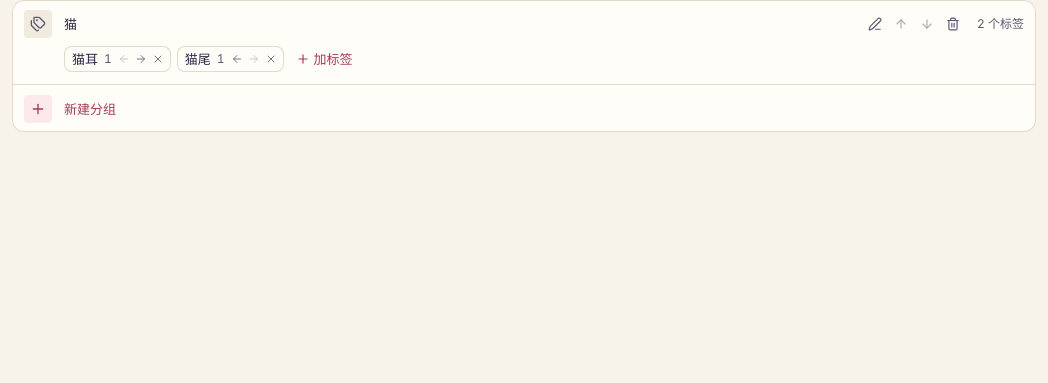
Test: 加标签时不列已有成员，仍列满其余匹配的标签；Esc 收起后焦点回到“加标签”
Step 1. Click the button with aria-label "给“猫”加标签" → [325, 59], box [290,46,361,72]
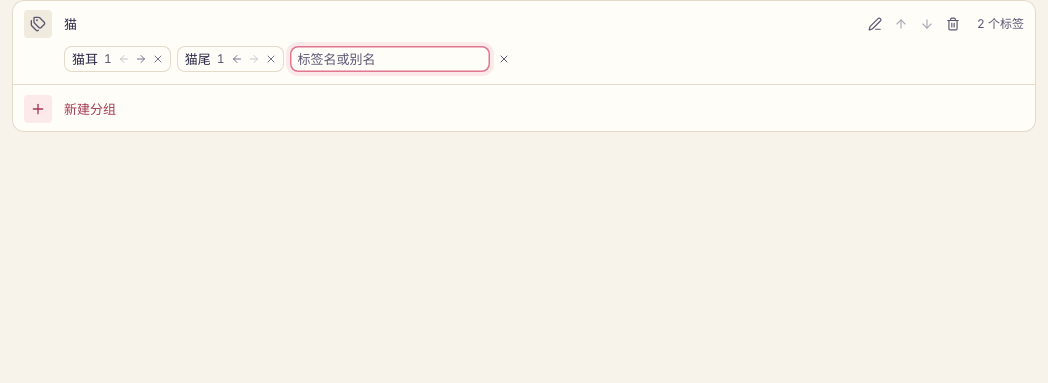
Step 2. Type "猫" into the dropdown named "挑一个统一标签" → [390, 59], box [298,46,482,72]
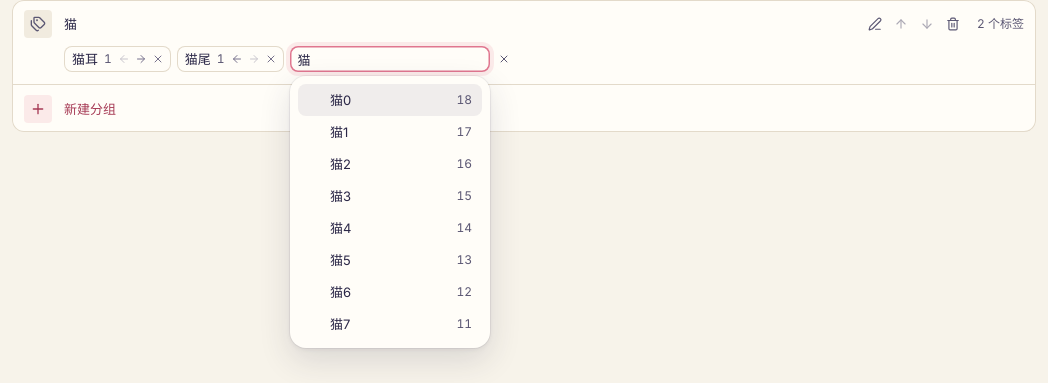
Expected: the option "猫7 11" is shown, [330,316,472,332]
Expected: the number of options is 8
Step 3. Press Escape in the dropdown named "挑一个统一标签", box [298,46,482,72]
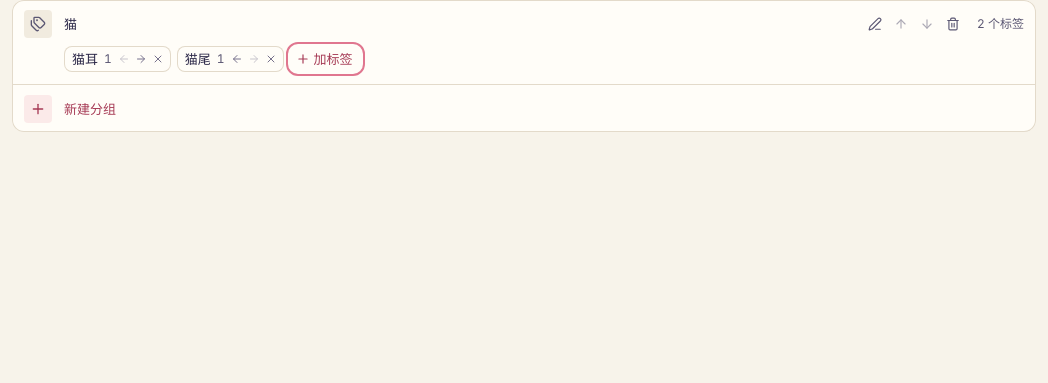
Expected: the dropdown labelled "挑一个统一标签" is gone
